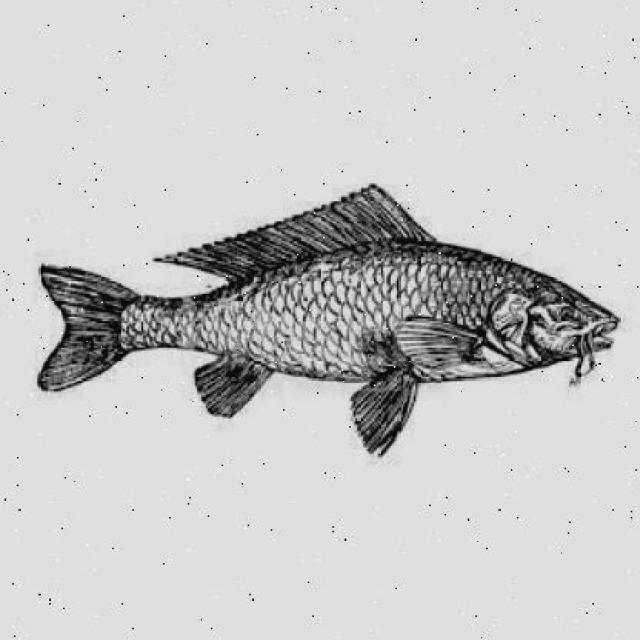ikan-mas: (39, 187, 626, 436)
